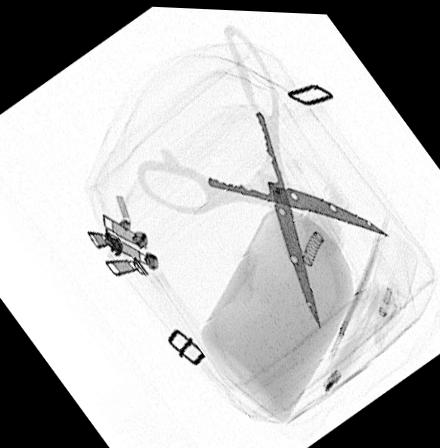Scissors: (133, 21, 391, 327)
